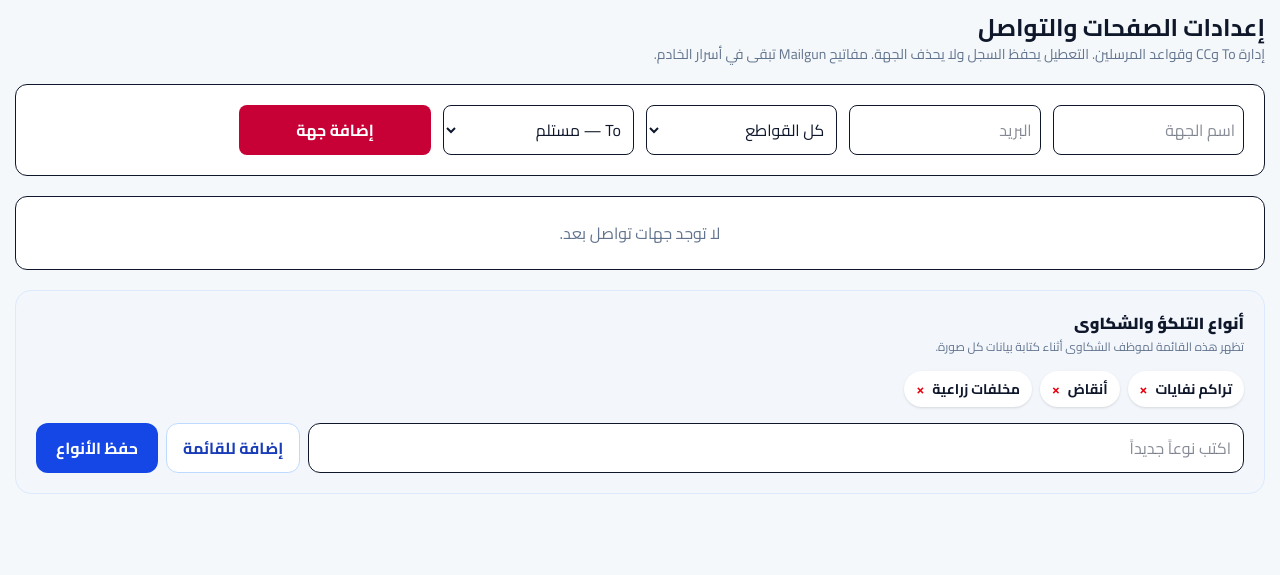
وحدة الإعدادات والتواصل — SettingsPage › يضيف جهة تواصل بنوع محدد ويعرض نجاحاً ويصفّي النموذج
This screenshot has width=1280, height=575.
Type " م. زينب " into the field labelled "اسم الجهة" at (1148, 130), box [1053, 105, 1244, 155]
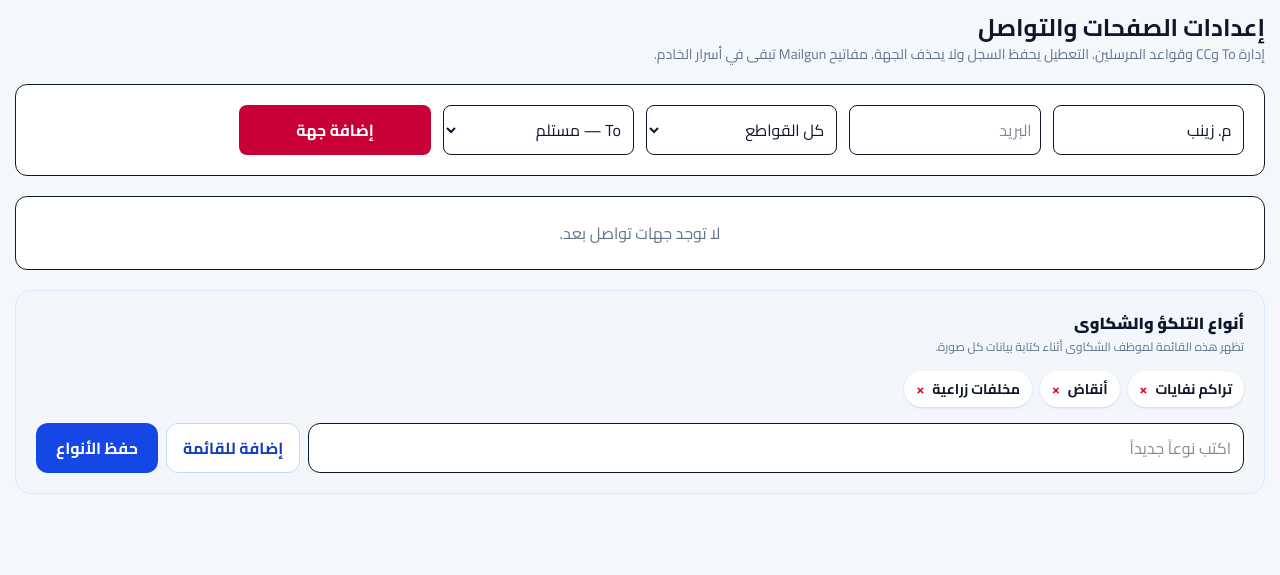
Type "z@test.iq" into the field named "بريد الجهة" at (945, 130), box [849, 105, 1041, 155]
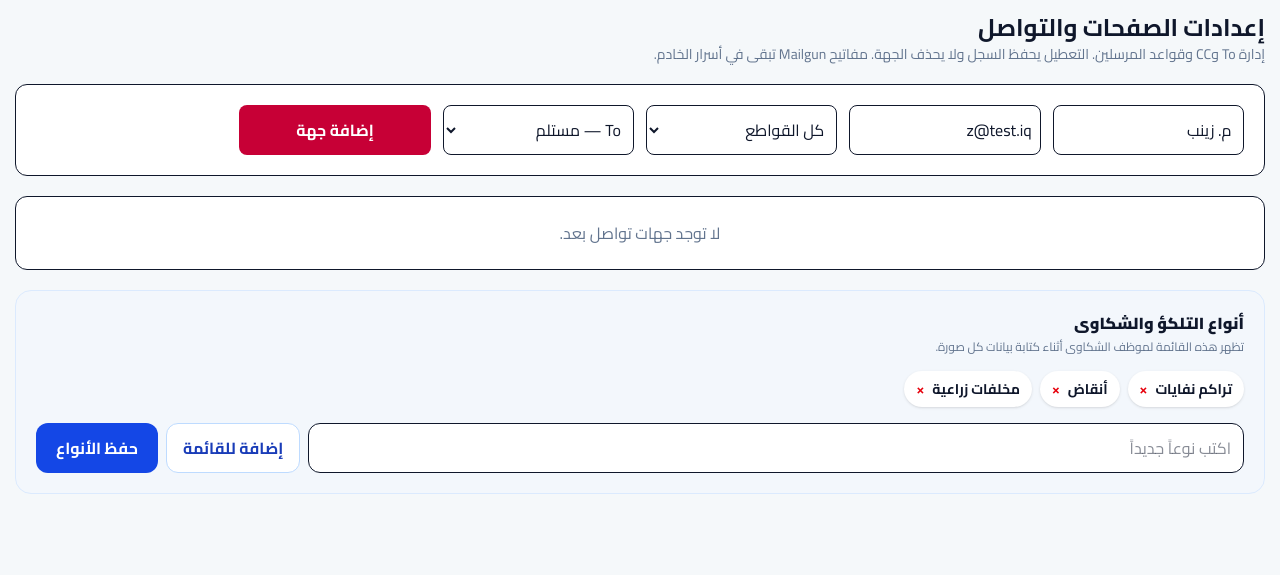
Select "CC — نسخة" in the dropdown named "استخدام الجهة" at (538, 130), box [443, 105, 634, 155]
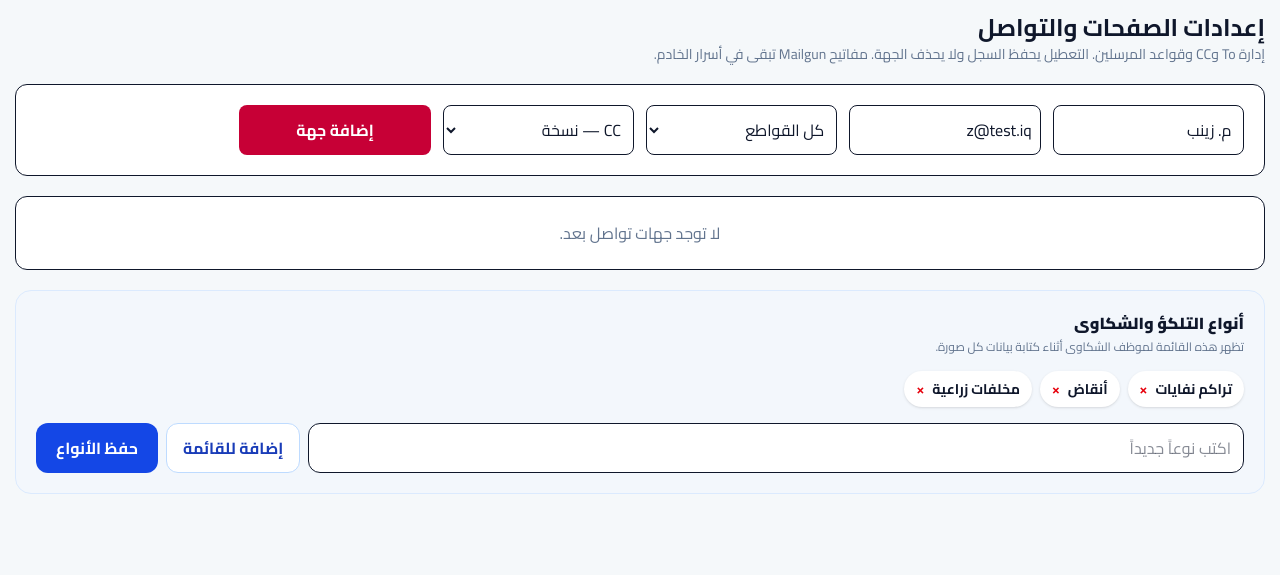
Click the button "إضافة جهة" at (335, 130), box [239, 105, 431, 155]
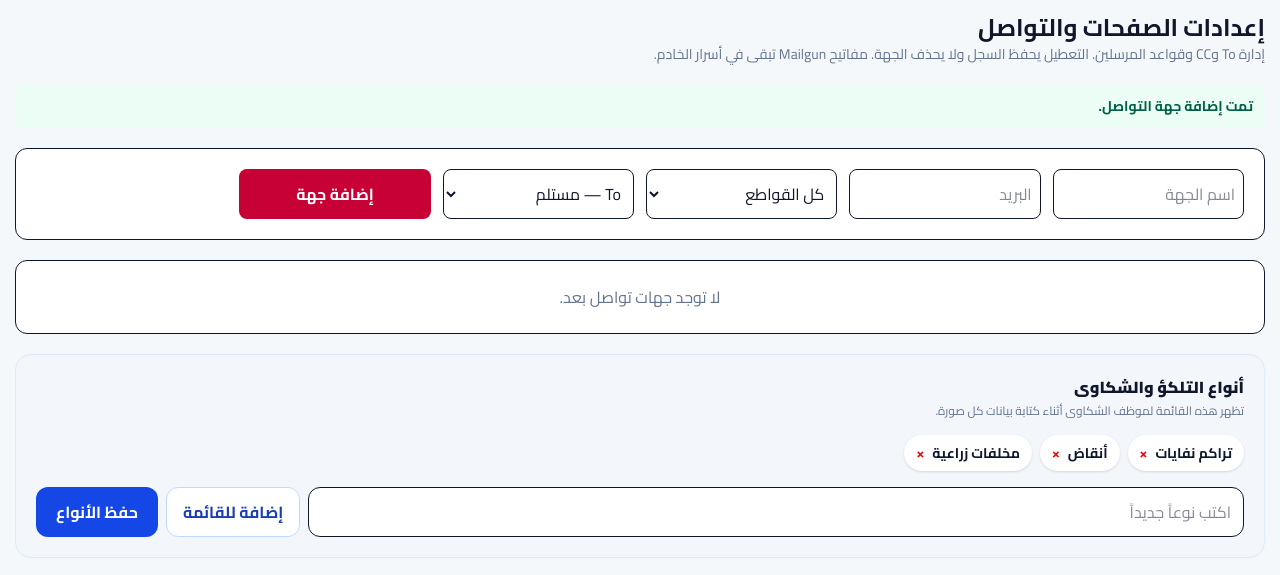
Now the text "تمت إضافة جهة التواصل." is shown, box [15, 84, 1265, 128]
Now the field labelled "اسم الجهة" is empty, box [1053, 169, 1244, 219]
